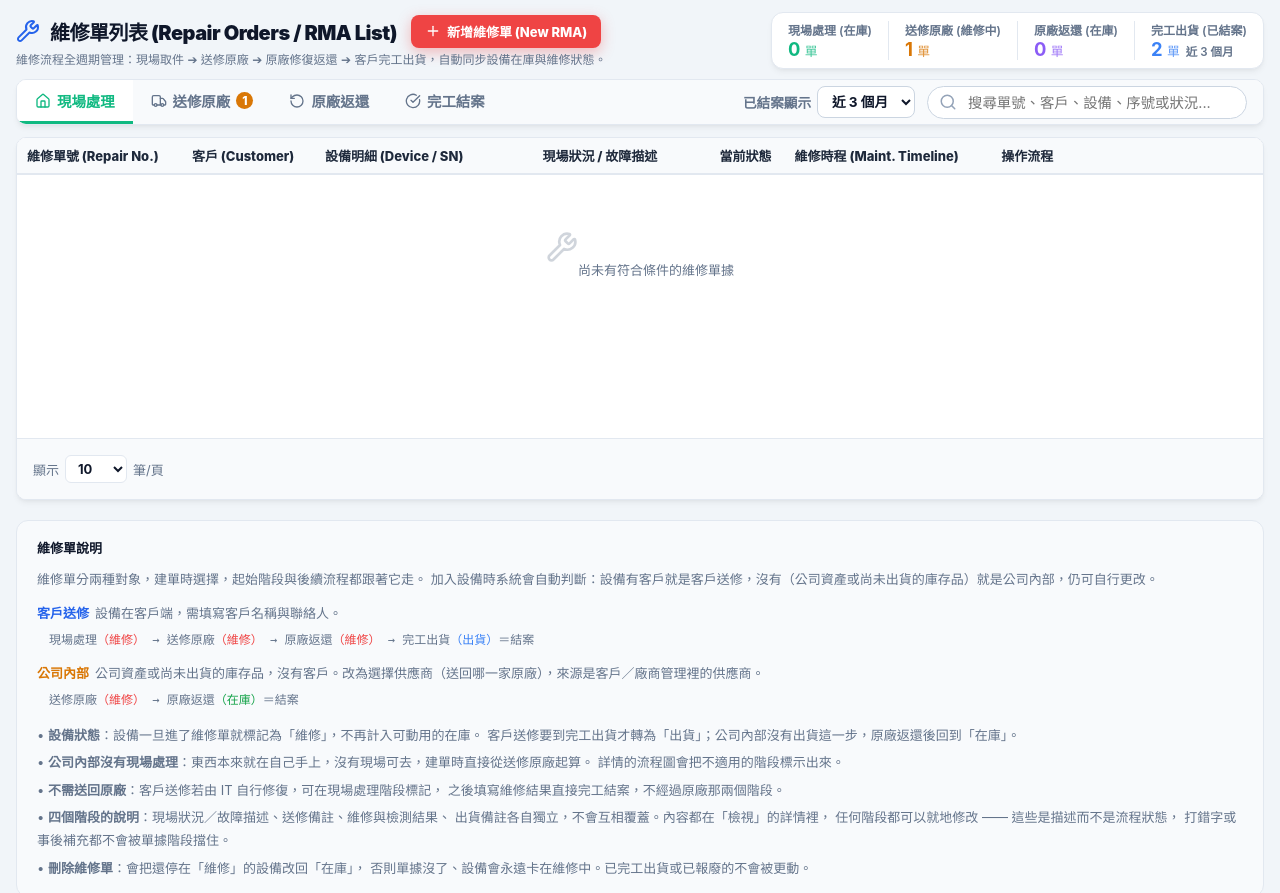
維修單列表 › 切到本月，完工數跟著變；未結案的不受影響
Expected: the text with test id "stat-1" reads "1", [905,38,913,60]
Click the button "完工結案" at (445, 102), box [387,80,503,124]
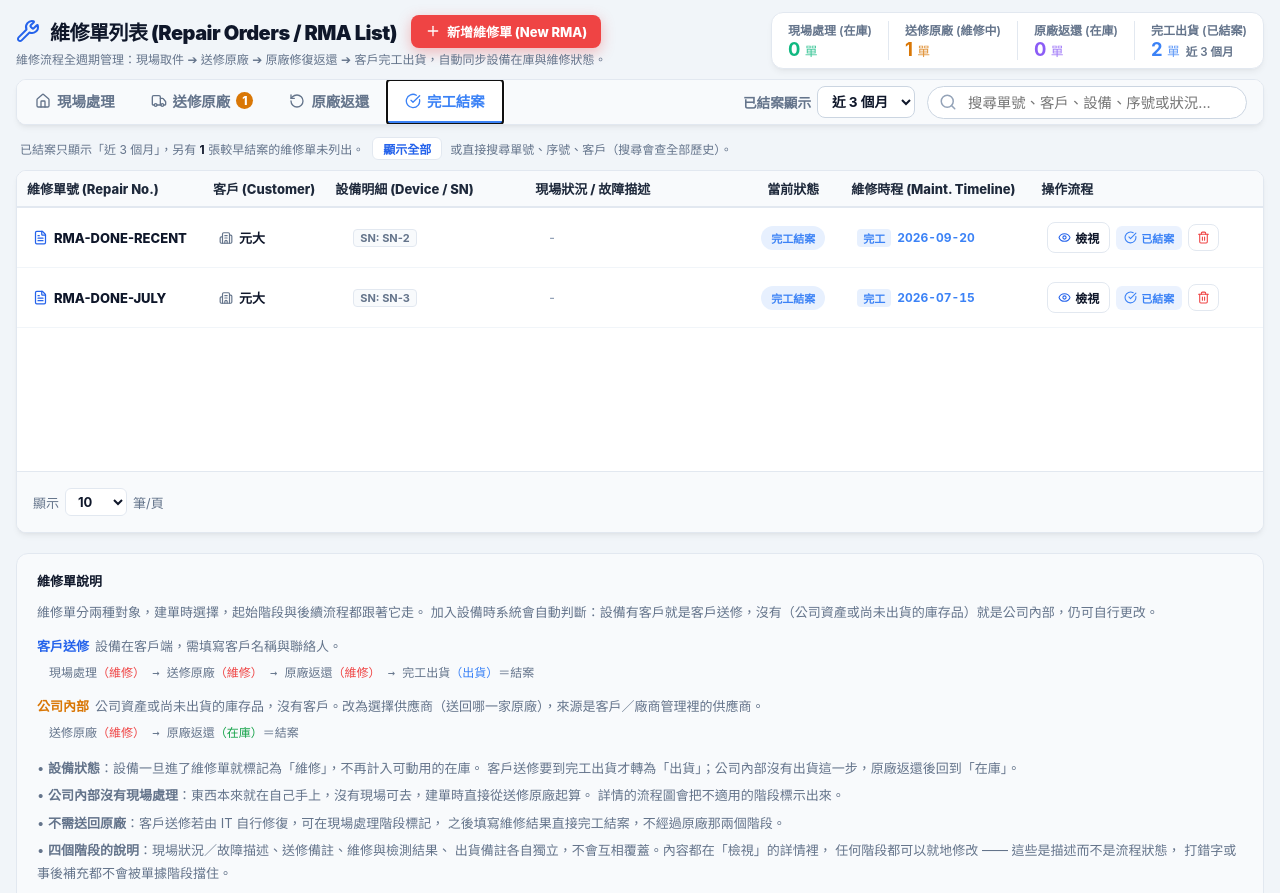
Select "本月" in the dropdown named "已結案顯示期間" at (866, 102), box [817,86,915,118]
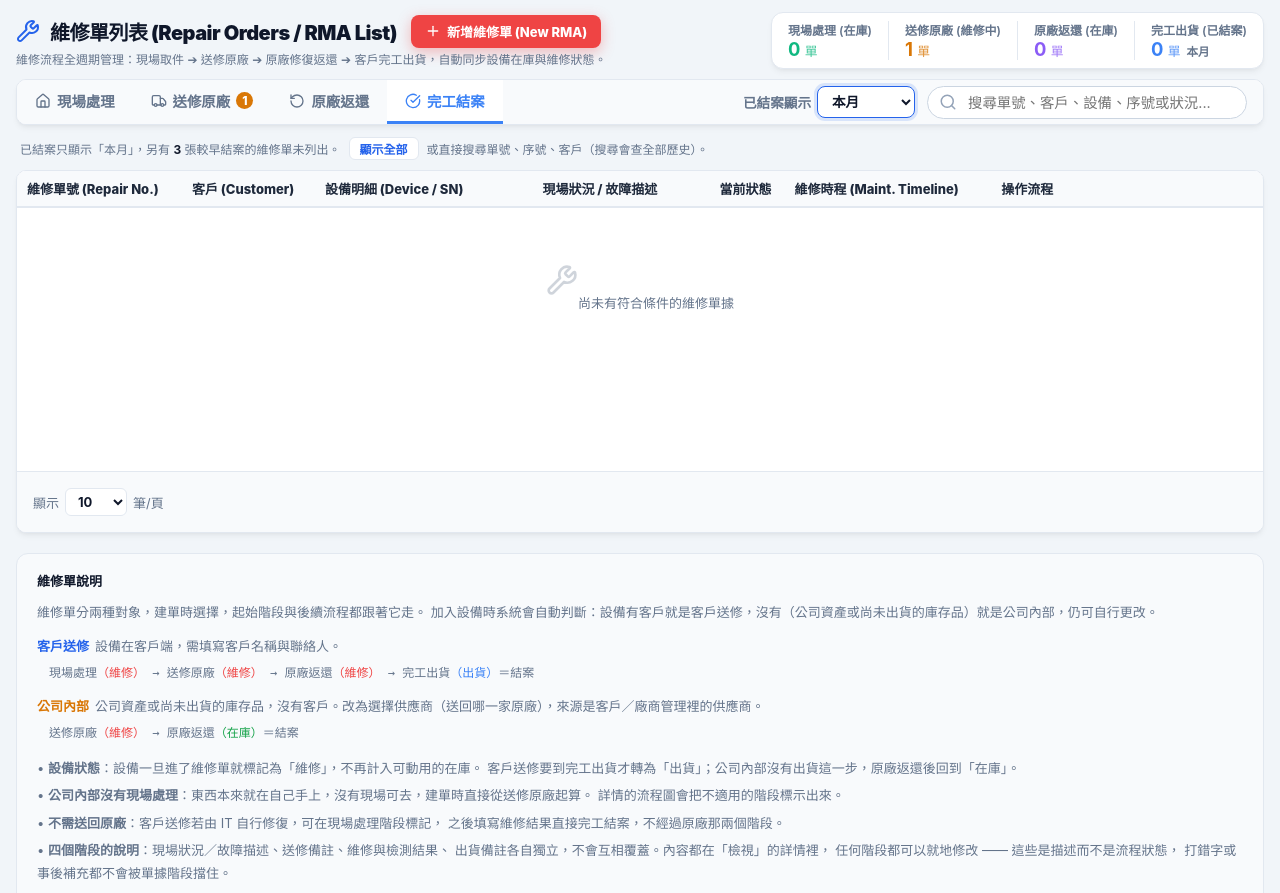
Expected: the text with test id "completed-period" reads "本月", [1187,45,1210,59]
Expected: the text with test id "stat-3" reads "0", [1151,38,1163,60]
Expected: the text "RMA-DONE-RECENT" is gone
Click the button "送修原廠 1" at (202, 102), box [133,80,272,124]
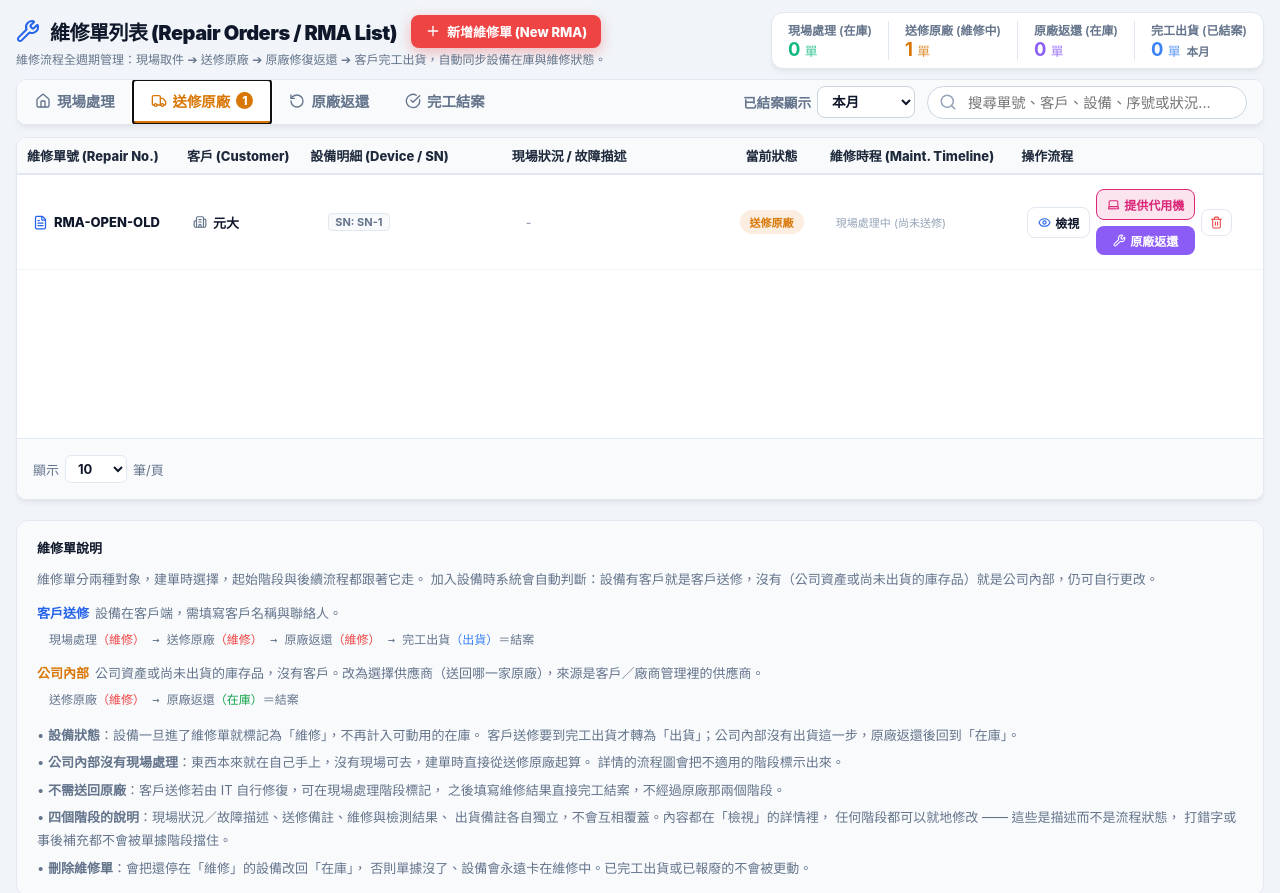
Expected: the text "RMA-OPEN-OLD" is shown, [54,214,160,230]
